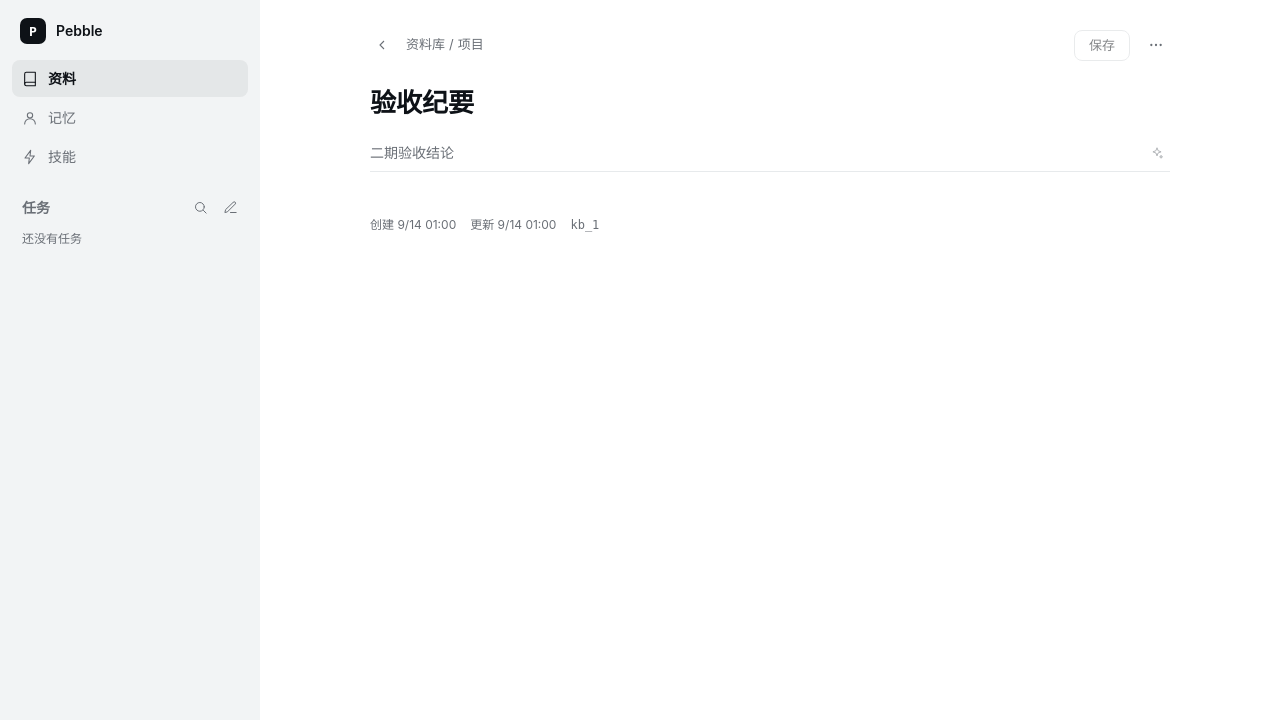
操作收在顶栏的“⋯”菜单里，有未保存的修改时不可用
Expected: the button "删除" is not shown
Type "（改）" into the field showing "验收纪要" at (770, 103), box left=370, top=86, right=1170, bottom=120
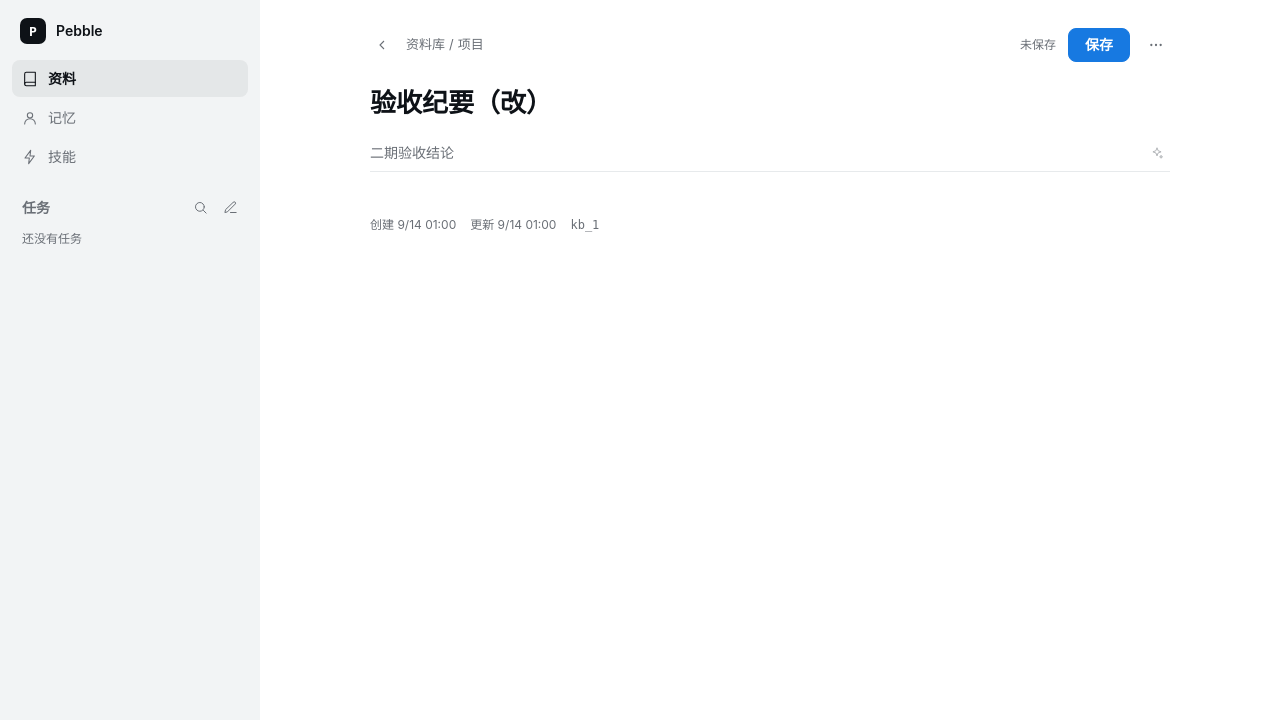
Click the button named "更多操作" at (1156, 45), box left=1142, top=31, right=1170, bottom=59
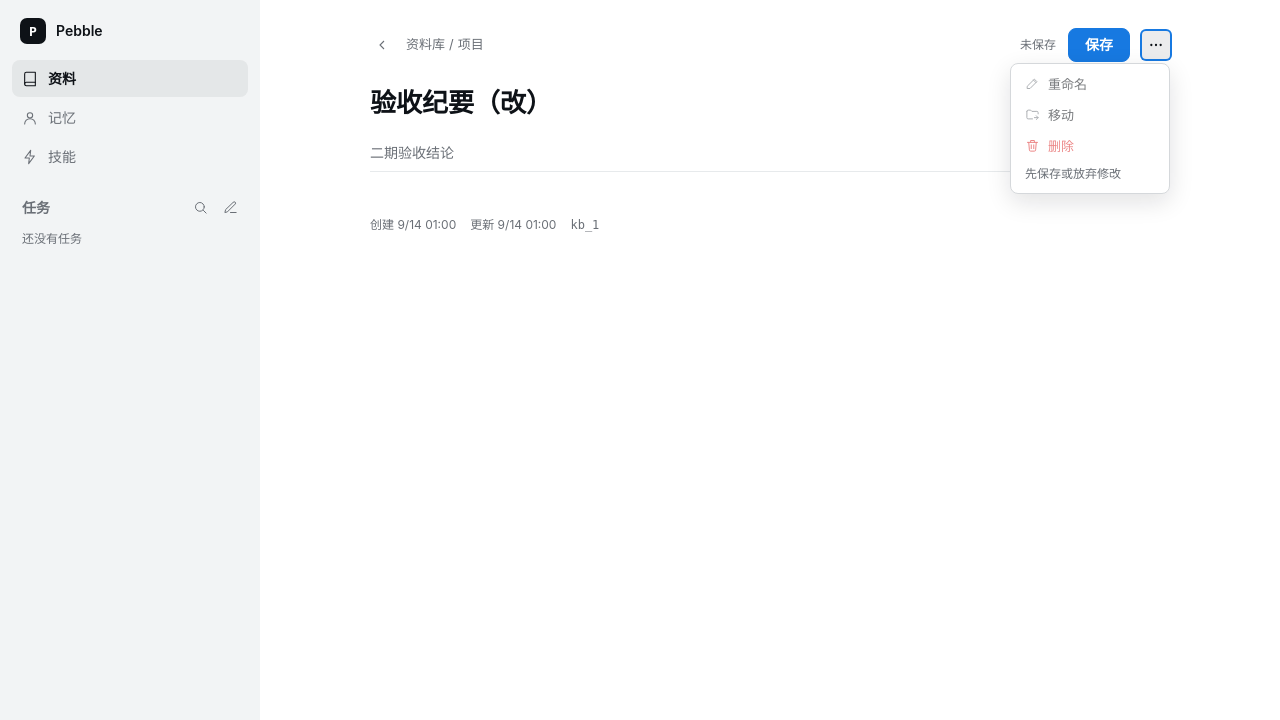
Expected: the menu item "重命名" is disabled, left=1015, top=68, right=1165, bottom=99
Expected: the menu item "移动" is disabled, left=1015, top=99, right=1165, bottom=130
Expected: the menu item "删除" is disabled, left=1015, top=130, right=1165, bottom=161
